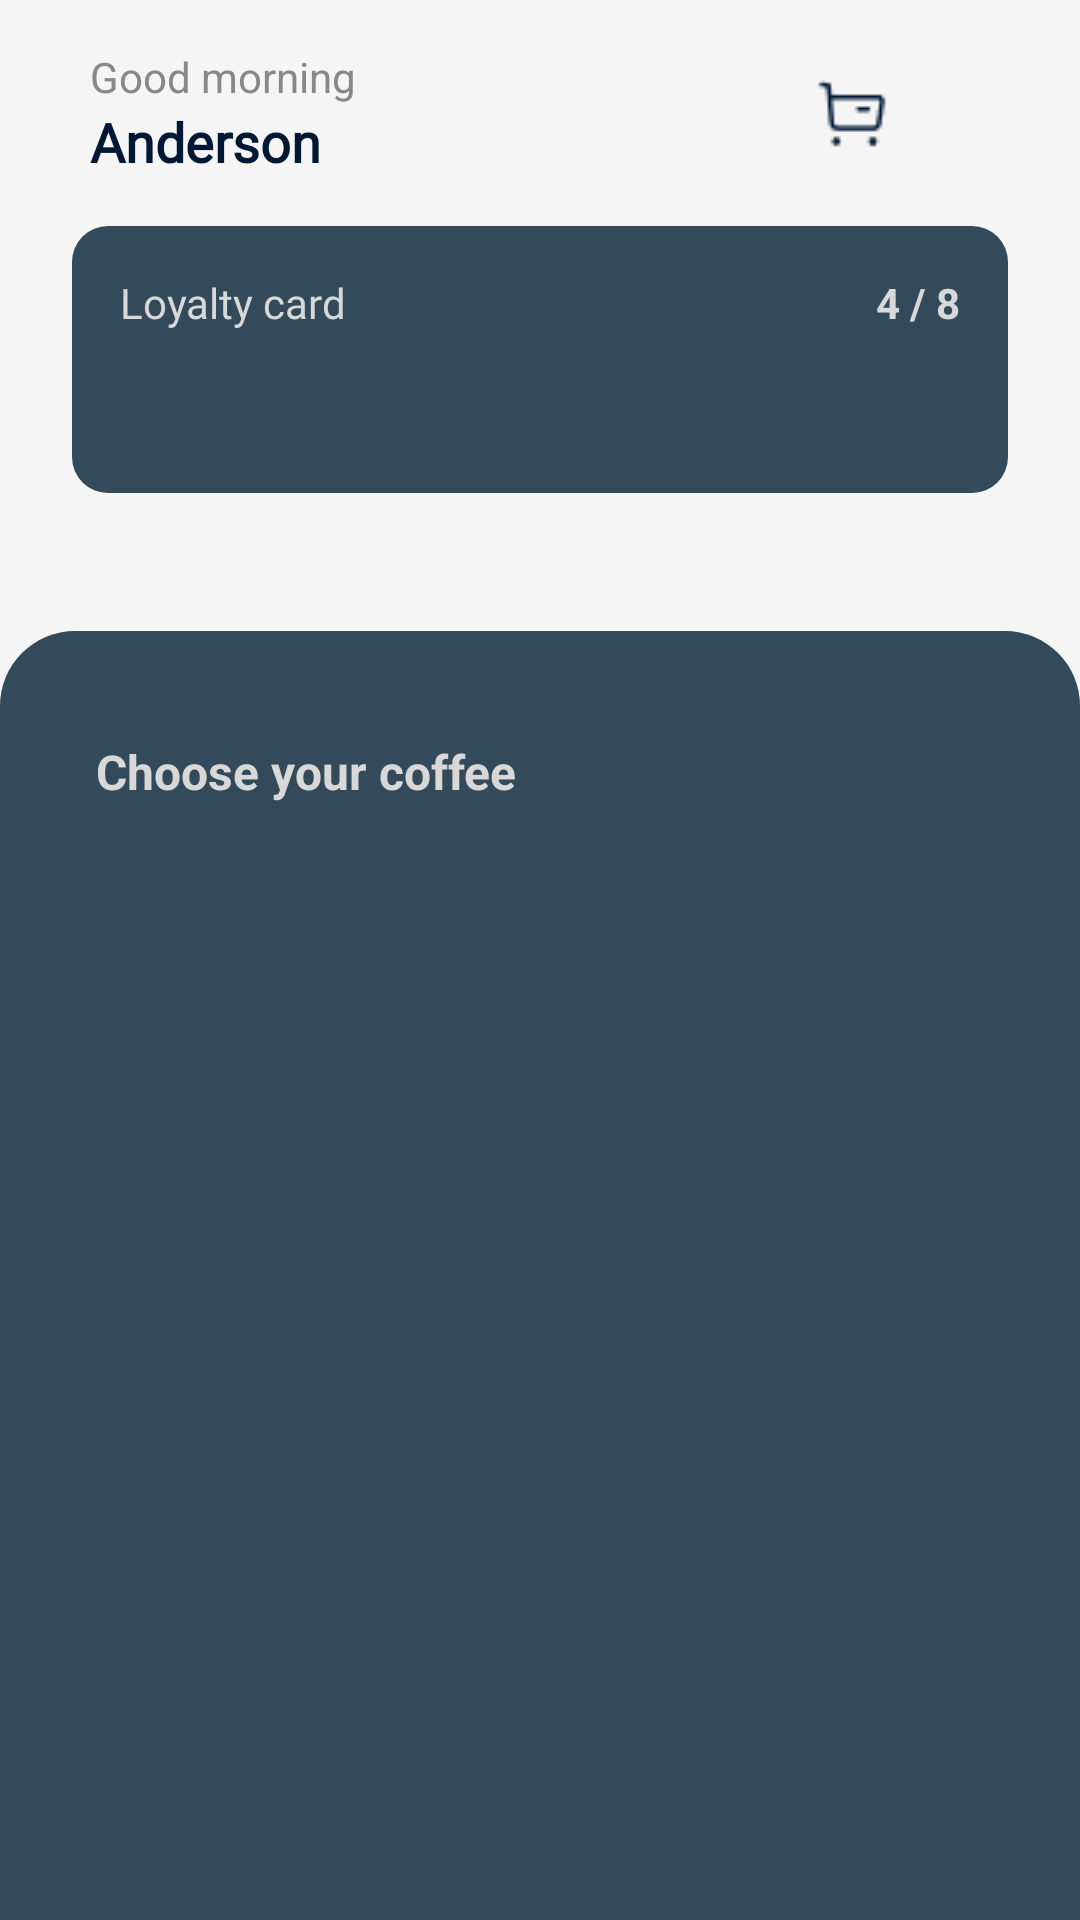

Where icons sit on this 1080px x 1920px app screen, as (x1, y1, x2, y2):
Cart: (818, 80, 886, 147)
